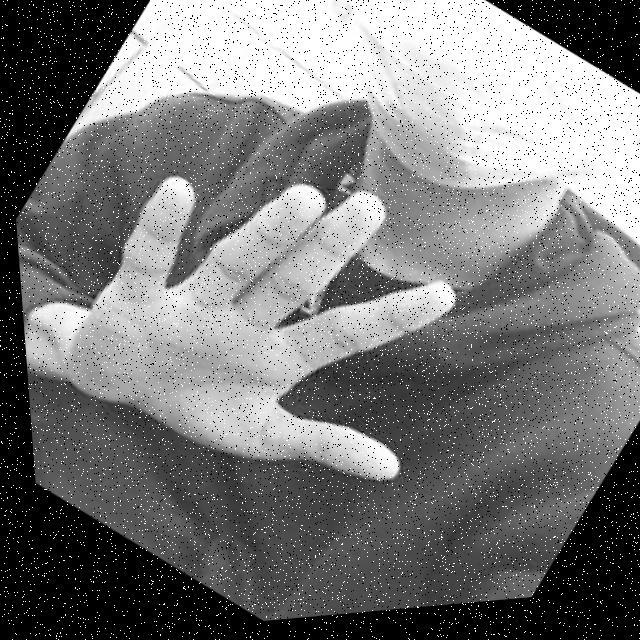no-gloves: (16, 76, 528, 584)
